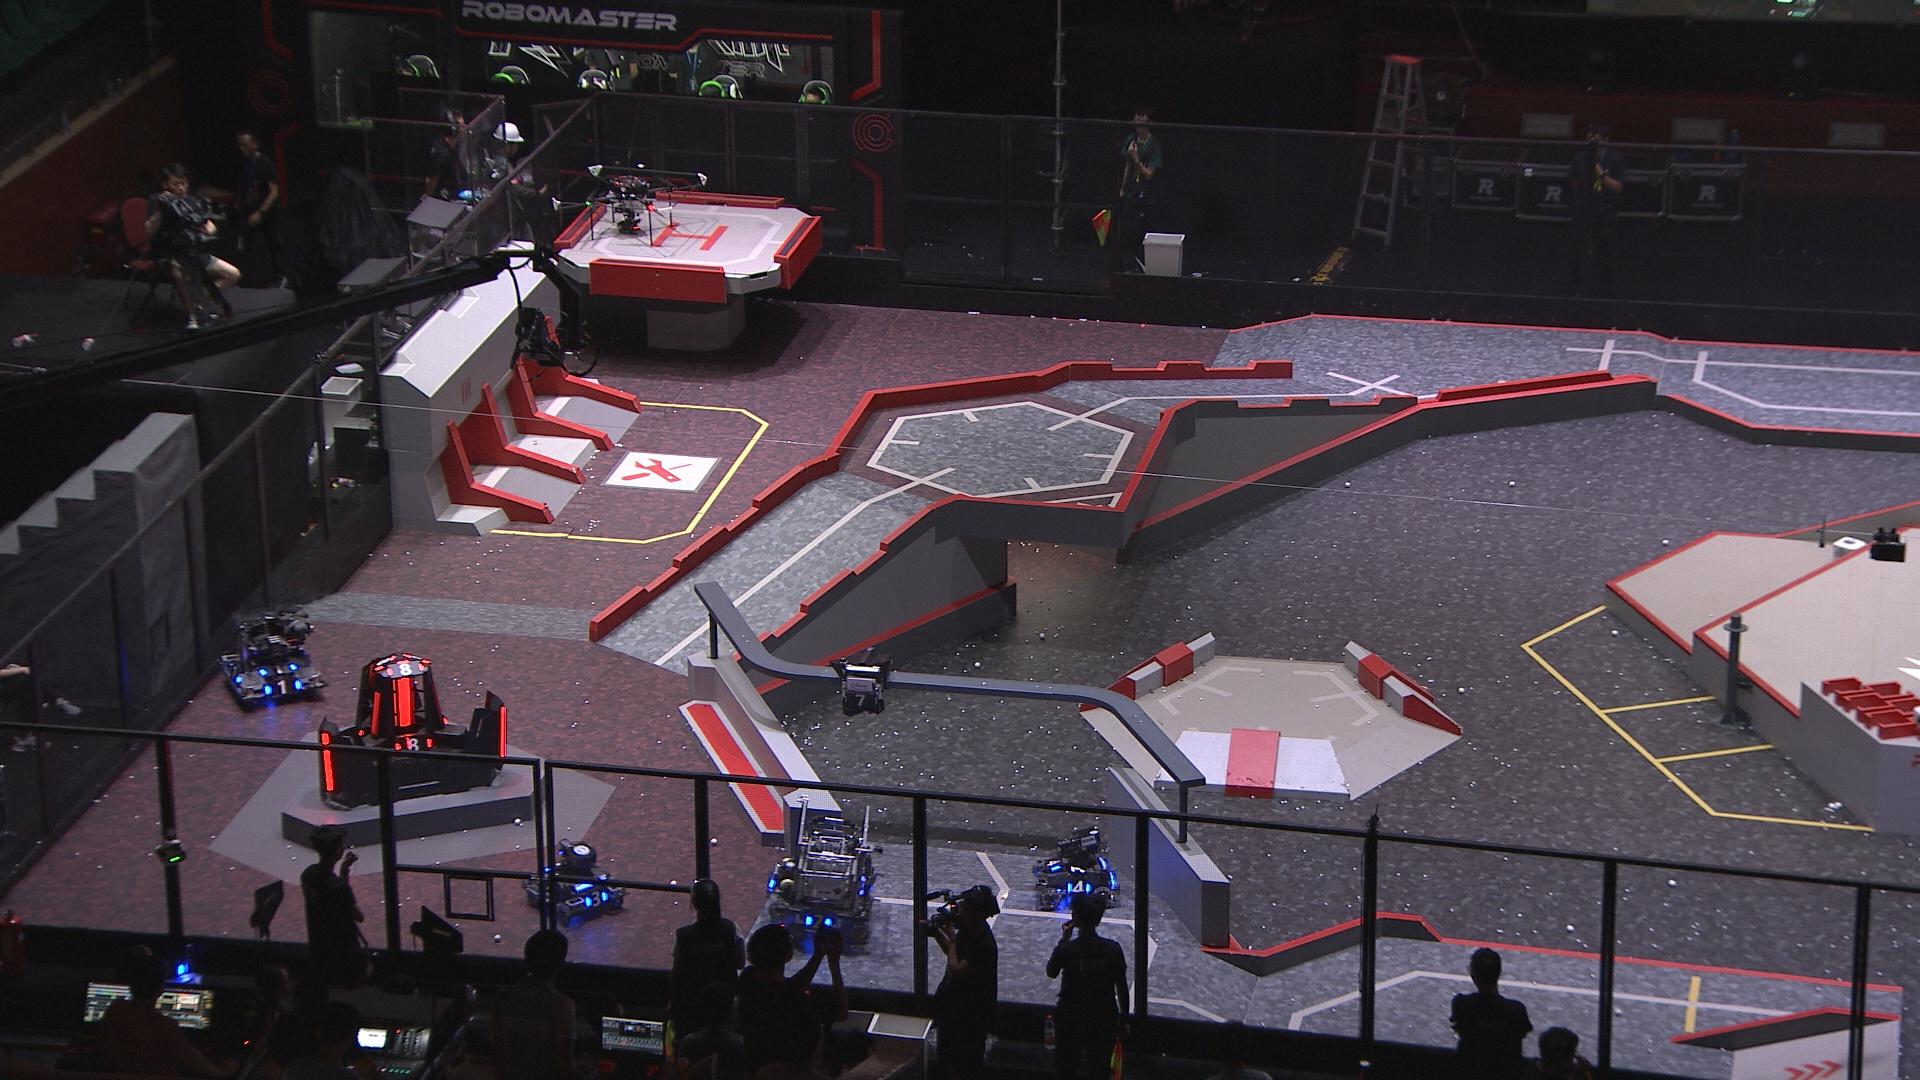armor: (390, 676, 414, 731), (316, 731, 335, 793), (264, 679, 305, 698), (256, 662, 301, 678), (392, 735, 433, 752), (802, 913, 835, 934), (382, 662, 427, 676), (841, 694, 876, 712), (371, 688, 382, 741), (582, 889, 609, 910), (1064, 878, 1095, 895), (498, 705, 508, 761), (1040, 856, 1062, 874), (225, 666, 243, 684)
base: (313, 651, 509, 808)
car: (767, 800, 876, 944), (219, 603, 328, 712), (520, 839, 626, 927), (1027, 828, 1122, 913)
watcher: (829, 647, 891, 717)
